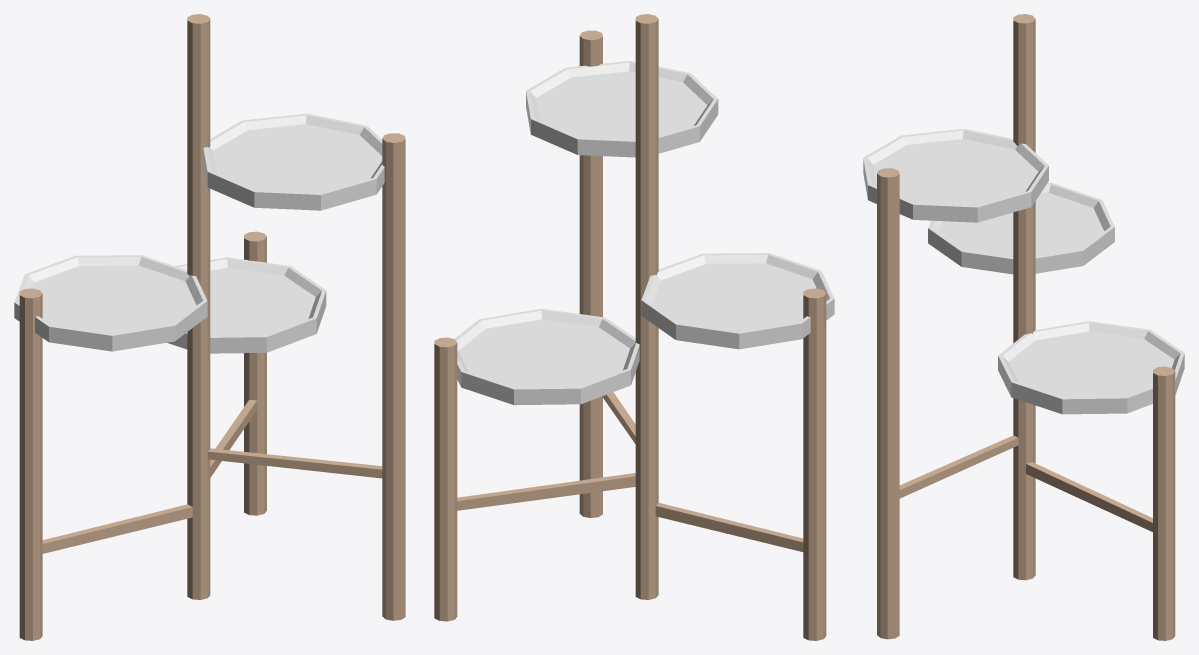
File: plantholder.gltf
The picture shows the model from 3 angles, left to right: view 1: azimuth 30°, elevation 25°; view 2: azimuth 150°, elevation 25°; view 3: azimuth 270°, elevation 25°; orthographic projection. The views are drawn at different scales.
Visible parts, largest first — view 1: Cube; view 2: Cube; view 3: Cube.
Part boxes in pixels (<box>): Cube: <box>14,14,405,640</box>; Cube: <box>434,14,834,640</box>; Cube: <box>863,14,1184,640</box>.
Size of the model in its own units: 0.3913 by 0.6619 by 0.3465.
Materials: 1 (1 with a texture image).
